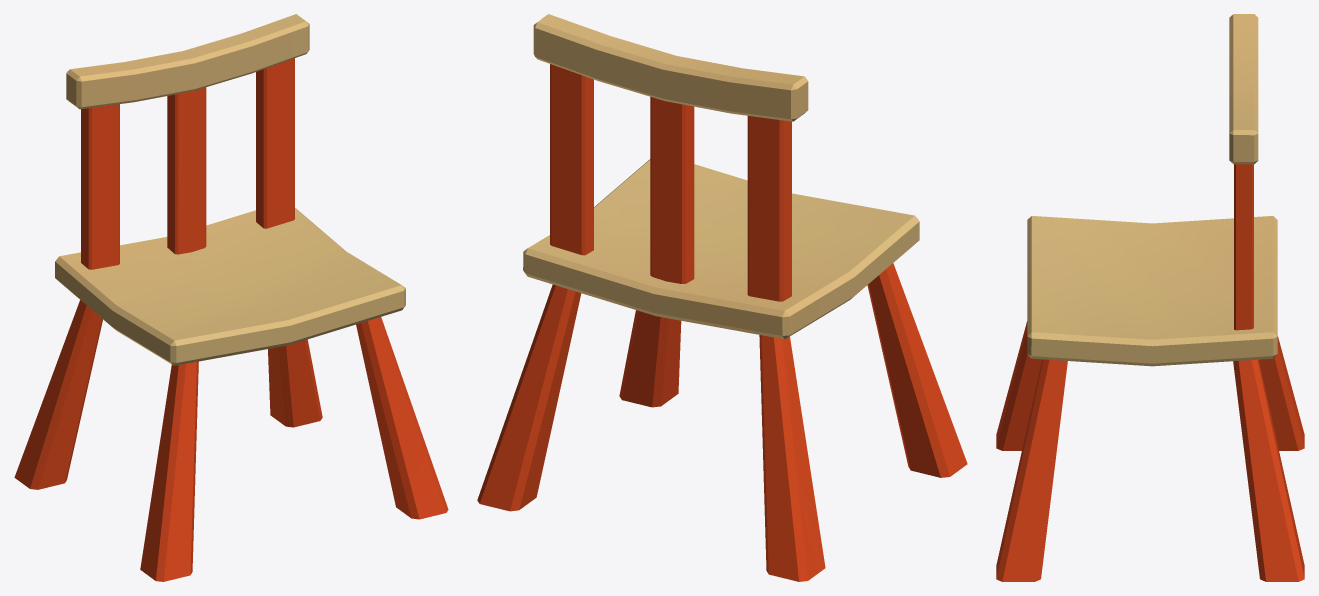
Rendered from chair.fbx.
3 views of the same model, side by side, from view 1: azimuth 30°, elevation 25°; view 2: azimuth 150°, elevation 25°; view 3: azimuth 270°, elevation 25° (orthographic). The views are drawn at different scales.
Visible parts, largest first — view 1: chair; view 2: chair; view 3: chair.
Boxes of the visible parts, box(x1,y1,x2,y2) form: chair: box(14, 14, 448, 581); chair: box(477, 14, 967, 581); chair: box(996, 14, 1304, 581).
Size of the model in its own units: 7.66 by 10.39 by 6.67.
